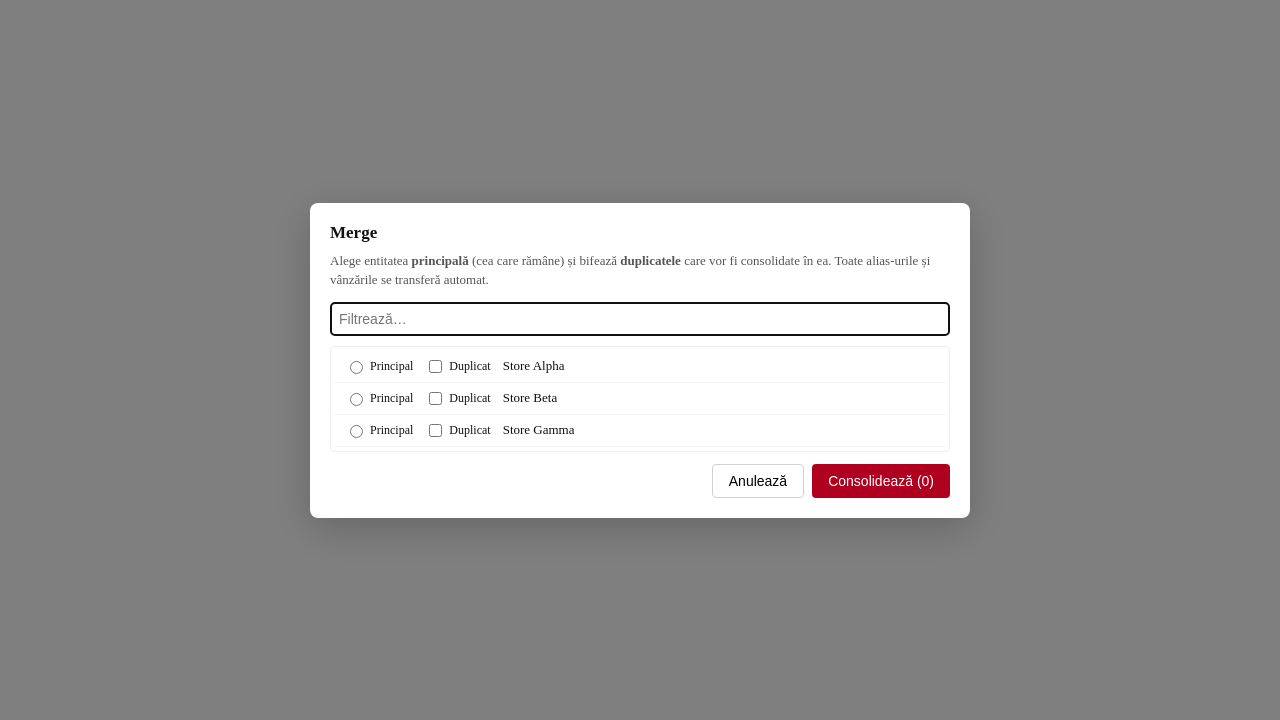
MergeDialog › filters items by search query
The width and height of the screenshot is (1280, 720).
In the field with placeholder "Filtrează…": [640, 318] box [330,302,950,336], type "beta"
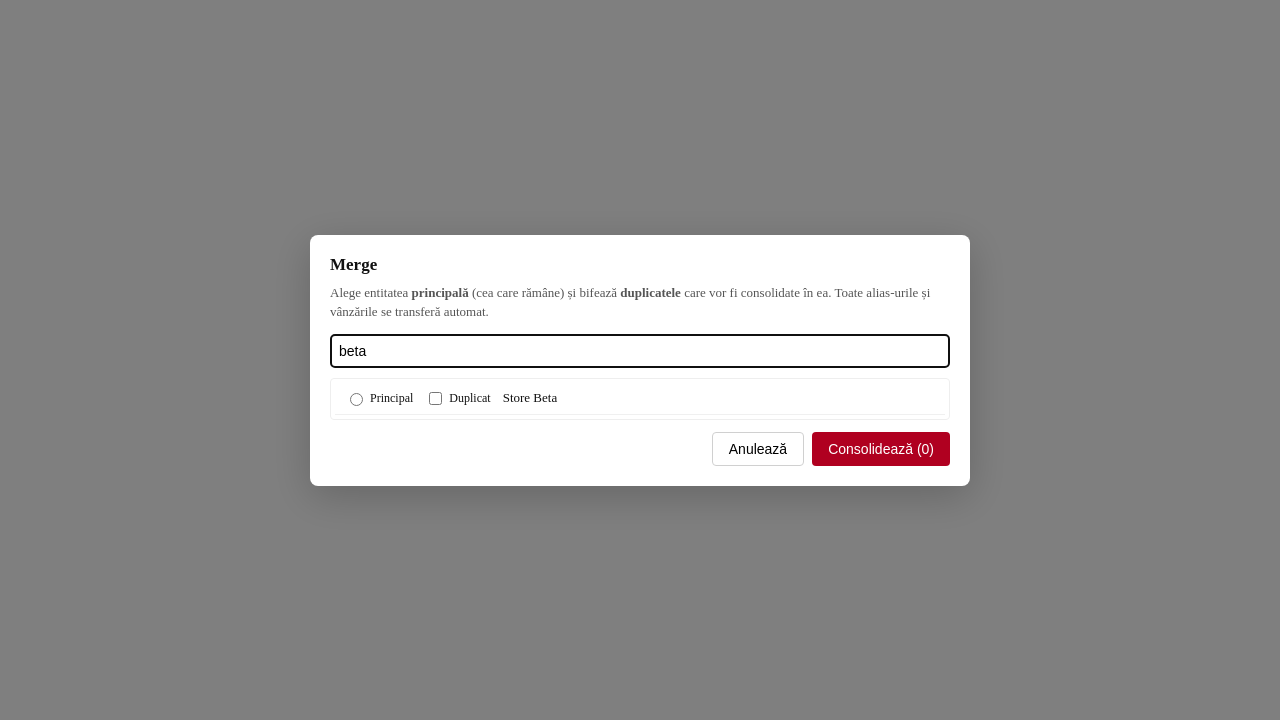
Expected: the text "Store Beta" is shown, [503,390,557,405]
Result: the text "Store Alpha" is gone
Result: the text "Store Gamma" is gone
